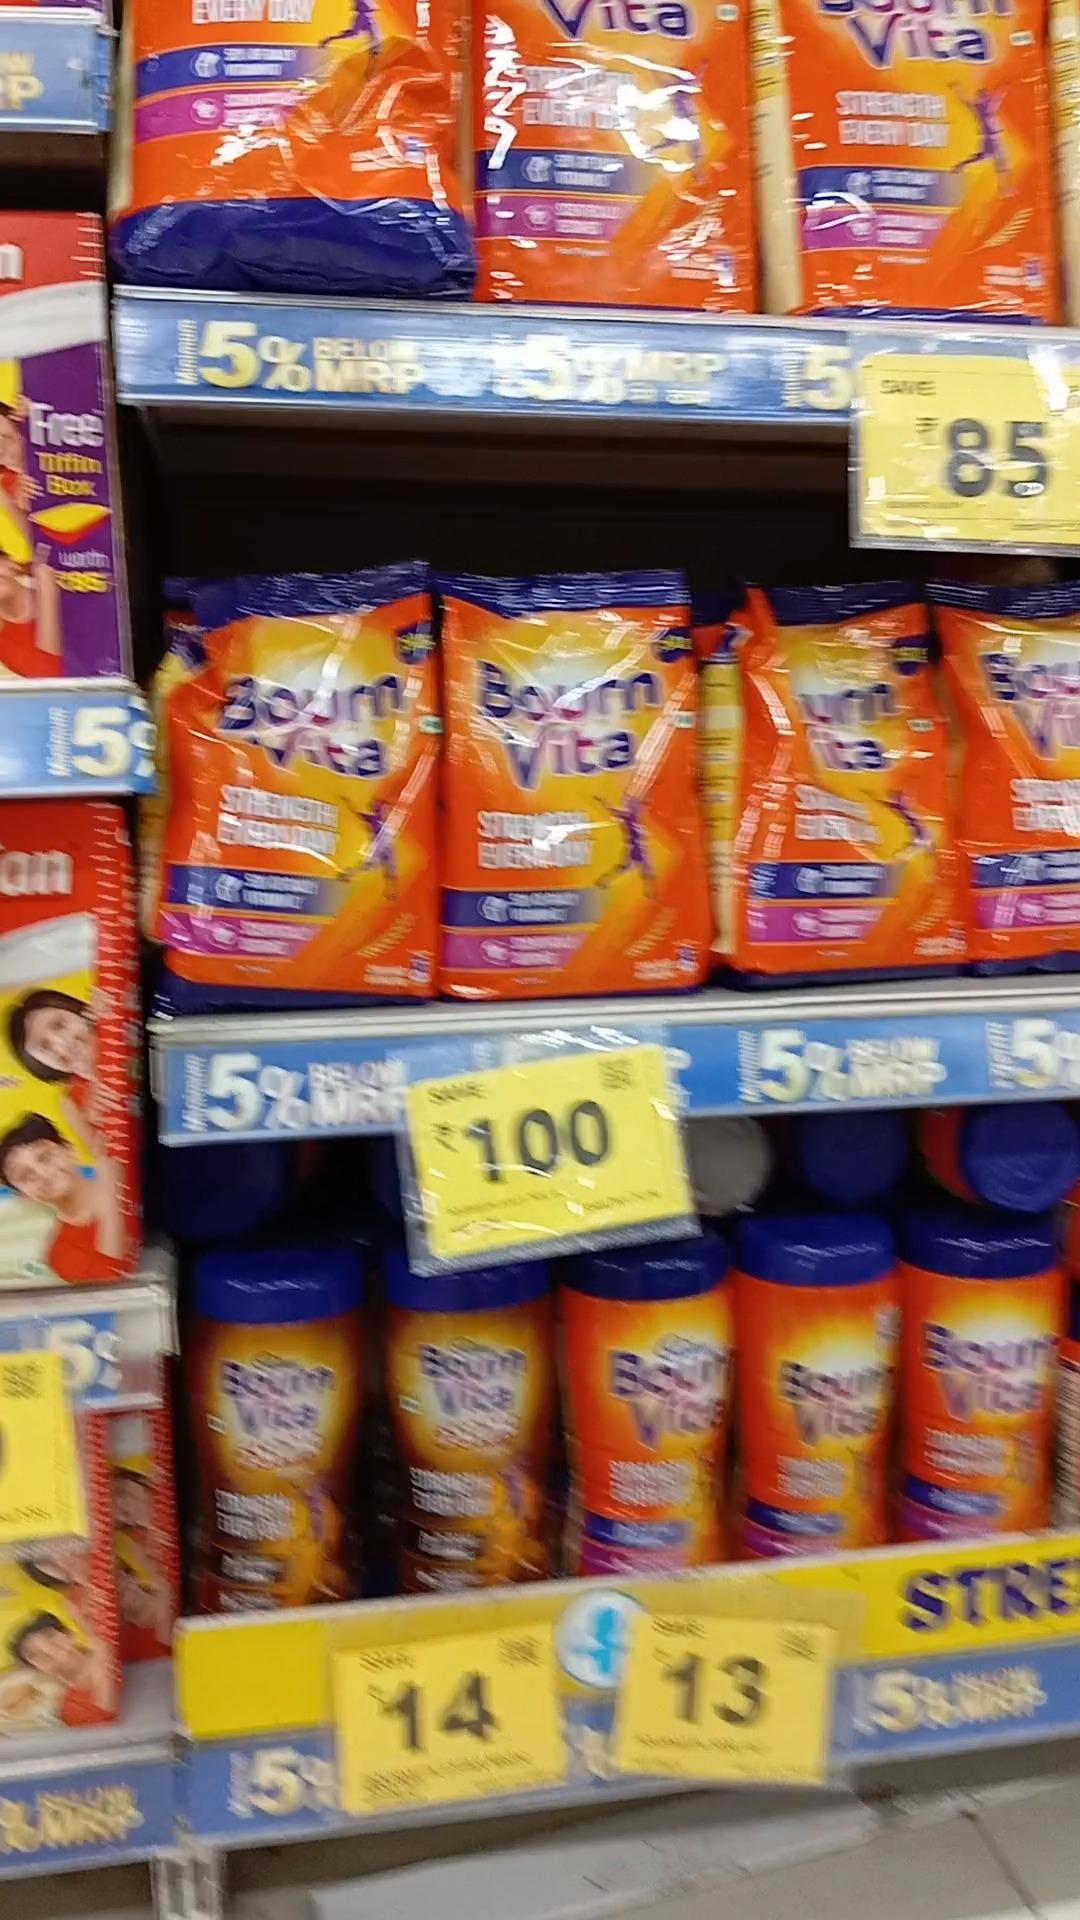BOURN_VITA_500_G_JAR: (729, 1208, 894, 1559), (566, 1245, 727, 1568), (898, 1222, 1052, 1536)
BOURN_VITA_750_G_POUCH: (152, 574, 443, 1007), (448, 576, 686, 988), (703, 574, 924, 977), (938, 576, 1080, 984)
BOURN_VITA_FIVE_STAR_MAGIC_500_G_JAR: (194, 1246, 351, 1607), (390, 1279, 551, 1600)
